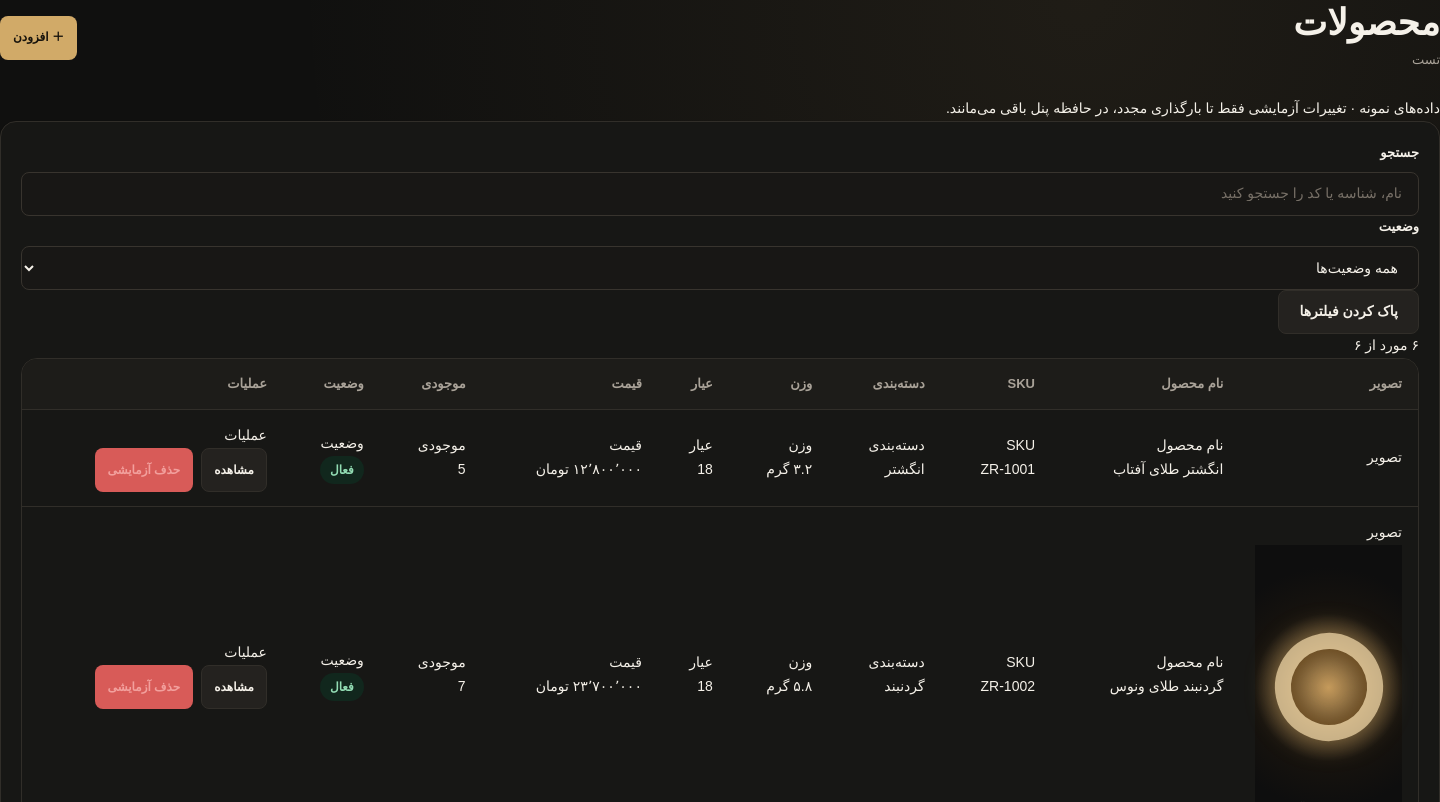
Test: admin workspace › requires confirmation for mock deletion and supports cancel
Type "ZR-1001" into the field labelled "جستجو". click: (720, 194)
box: [21,172,1419,216]
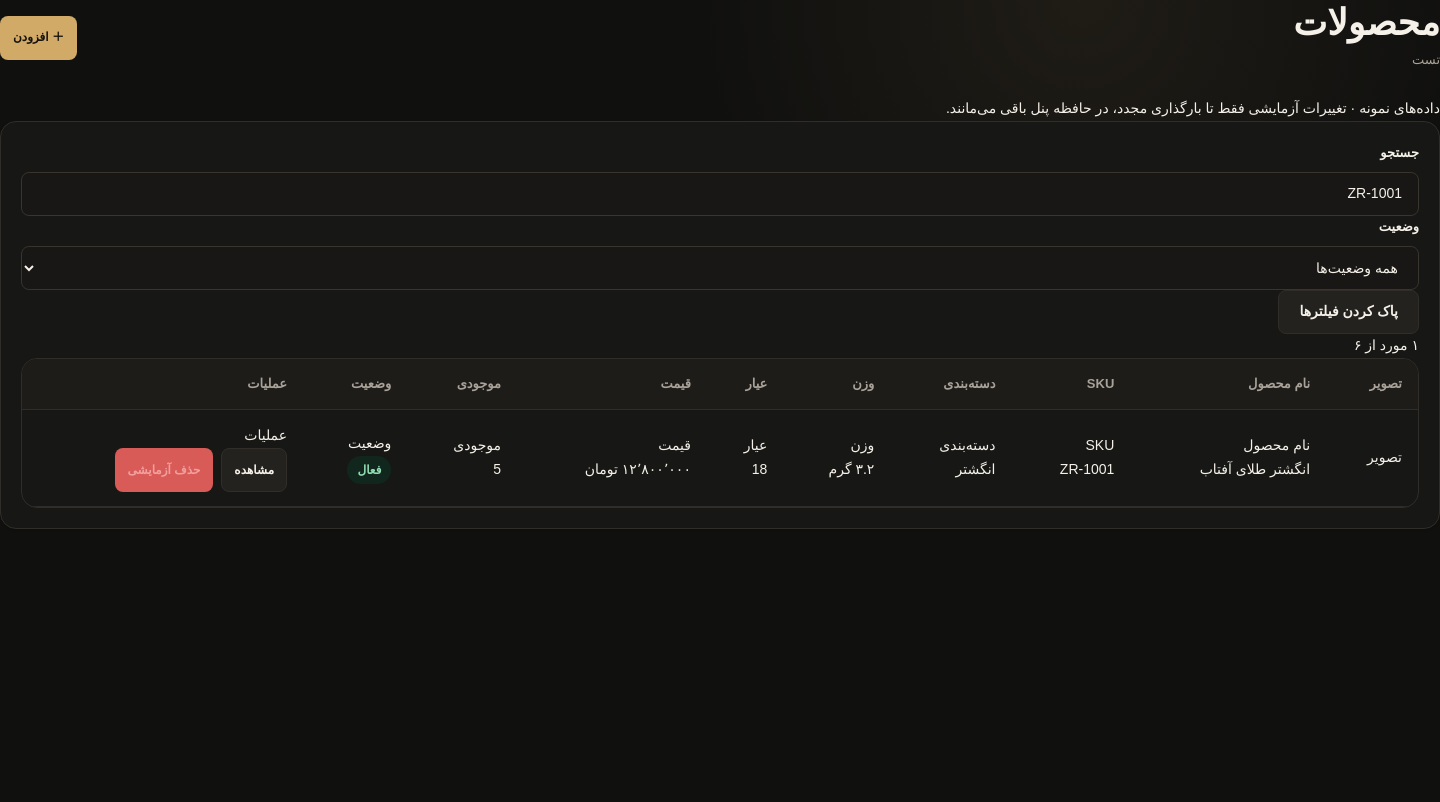
Click the button "حذف آزمایشی". click: (164, 470)
box: [115,448,213,492]
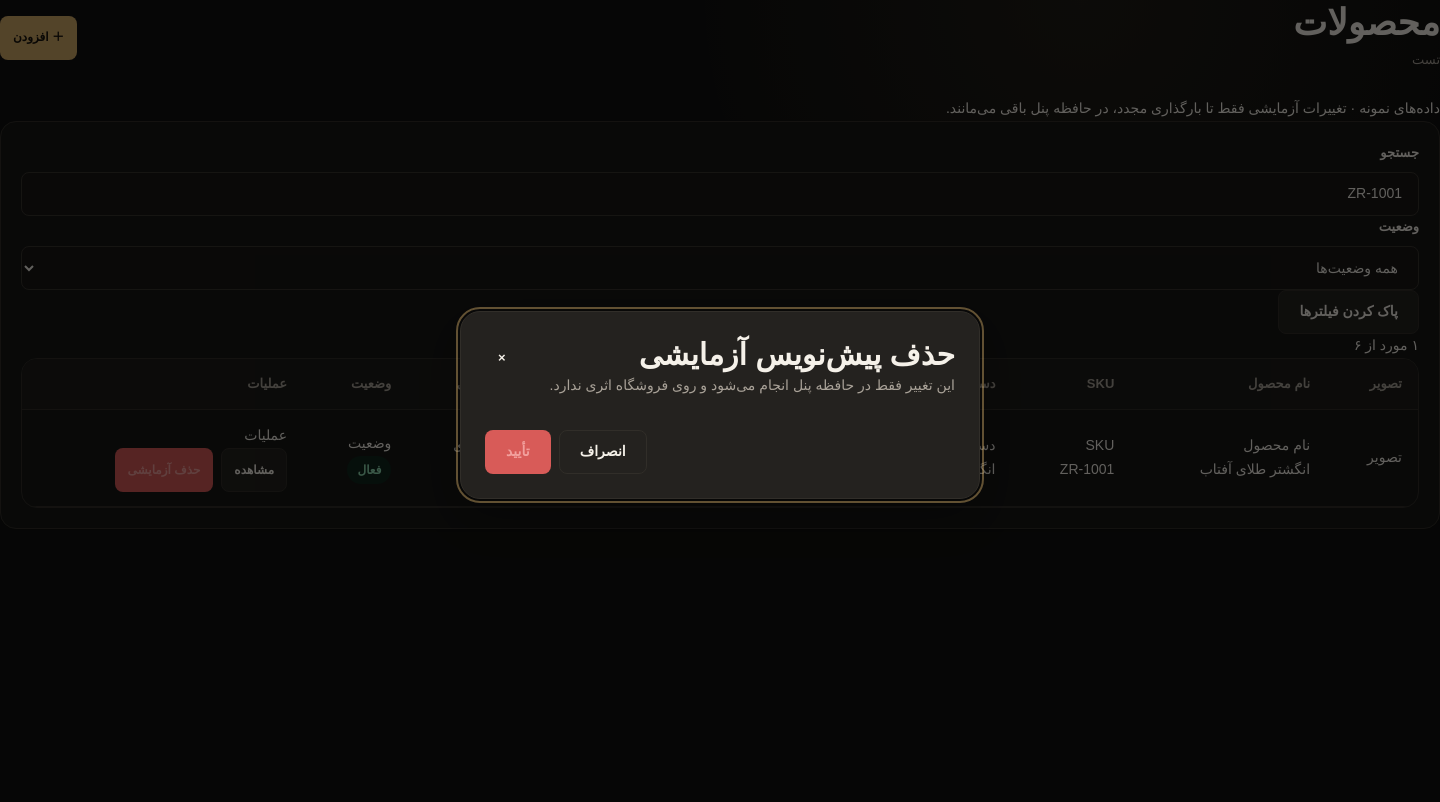
Click the button "انصراف". click: (603, 452)
box: [559,430,647,474]
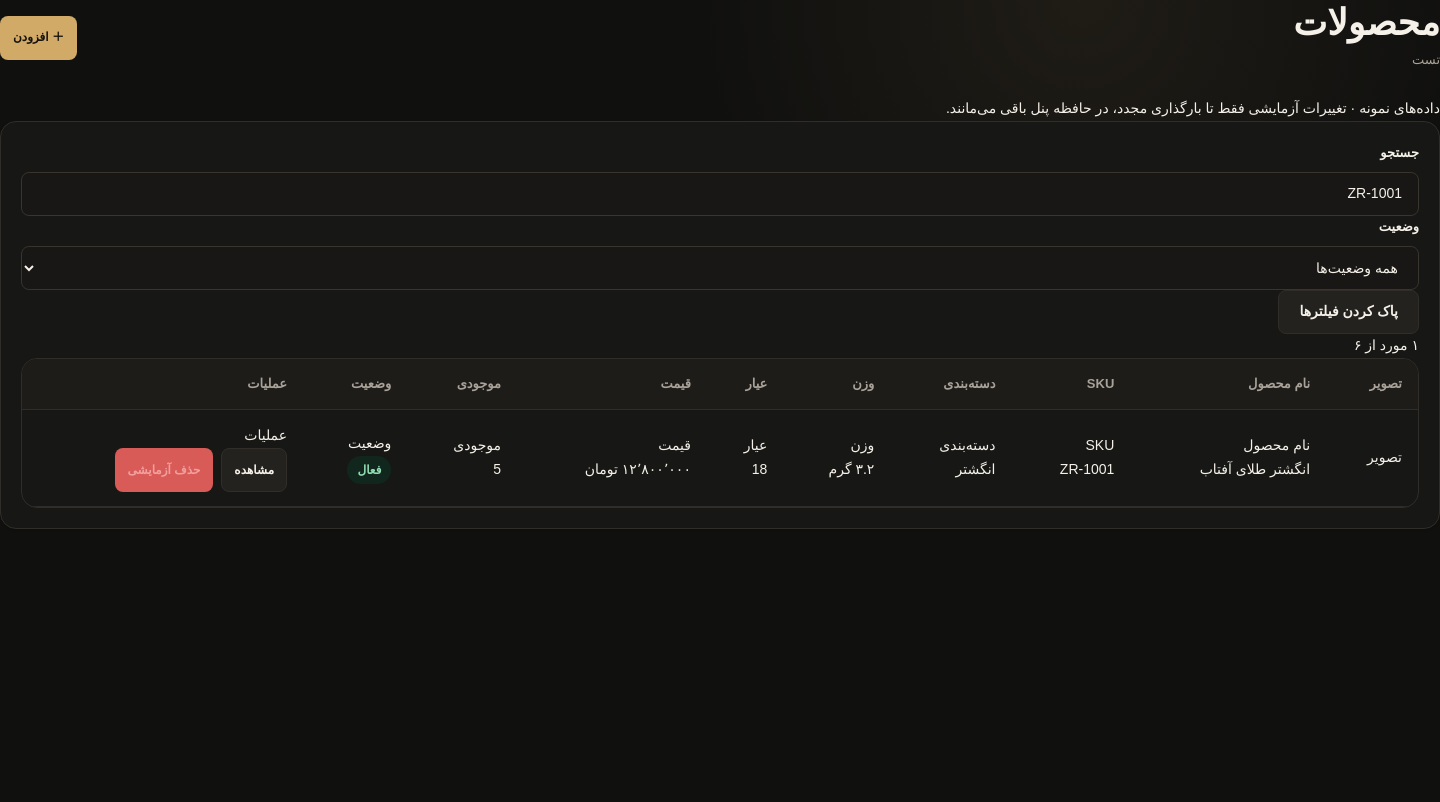
Expected: the text "انگشتر طلای آفتاب" is shown, [1200,461,1310,477]
Click the button "حذف آزمایشی". click: (164, 470)
box: [115,448,213,492]
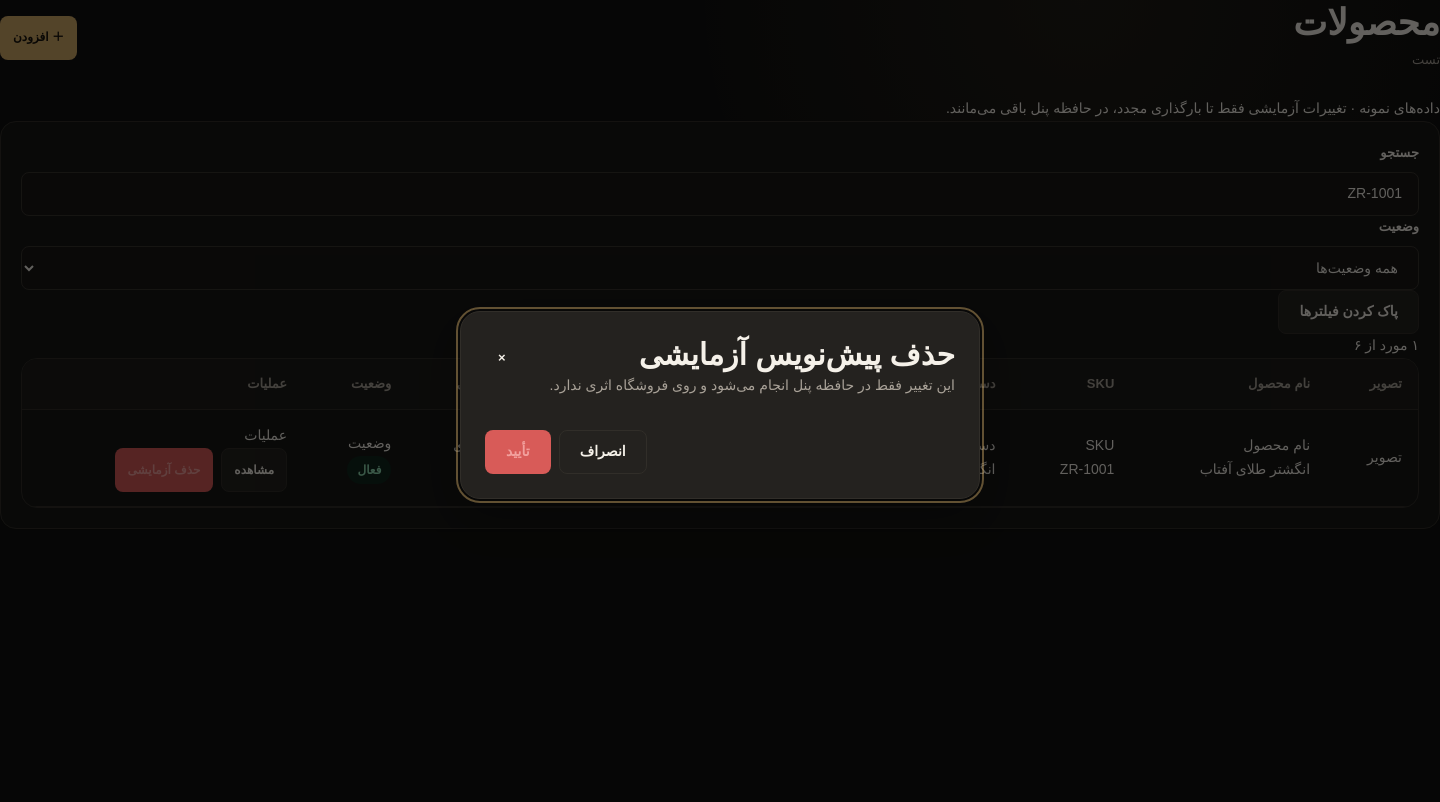
Click the button "تأیید". click: (518, 452)
box: [485,430,551,474]
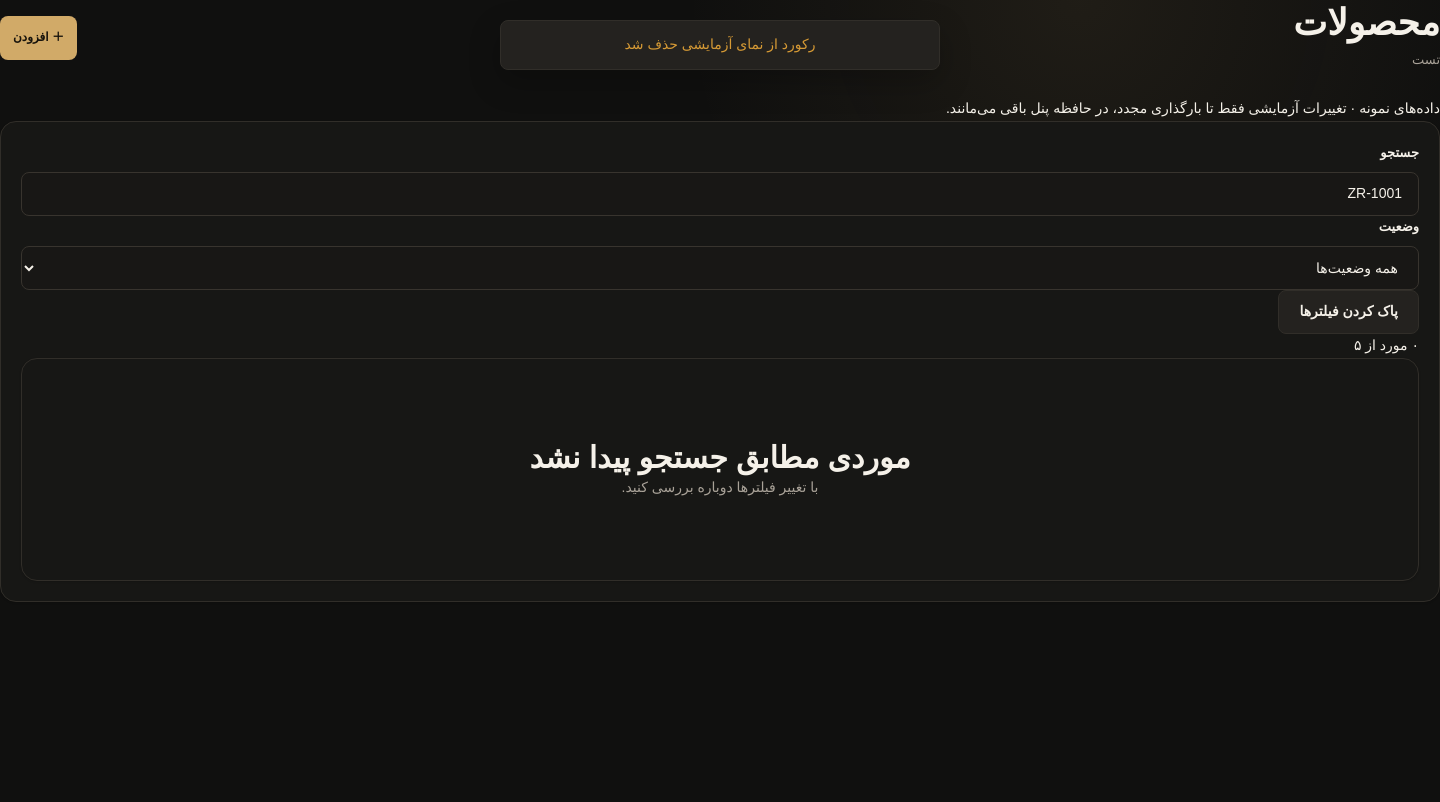
Expected: the text "انگشتر طلای آفتاب" is gone
